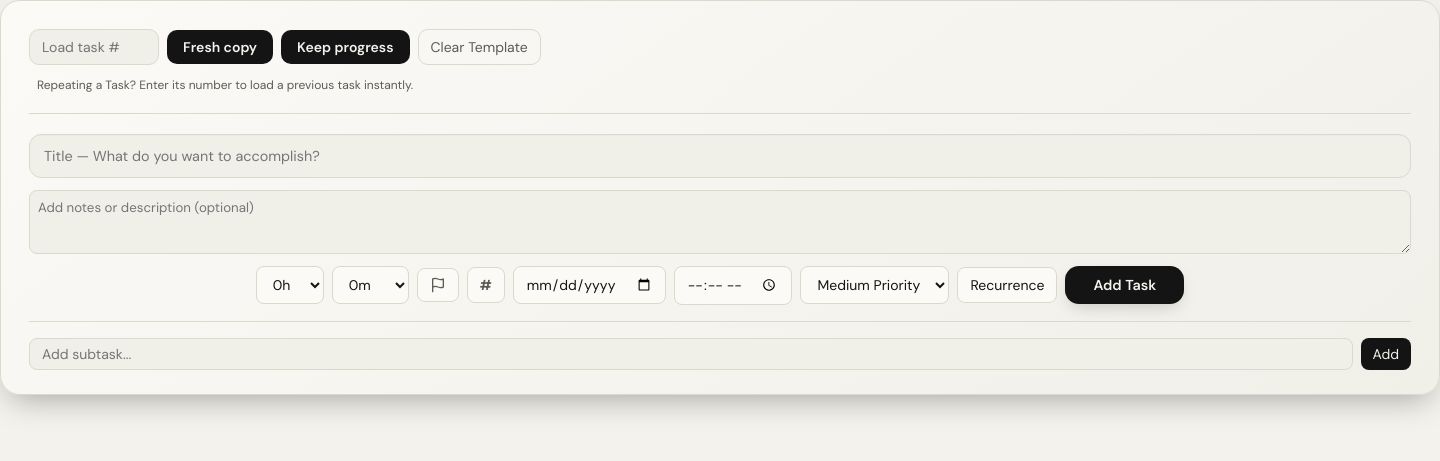
Test: Composer template loading › shows an error for unknown task numbers
Type "99" into the number field named "Load task by number".
click(94, 47); type("99")  # box [29,29,159,65]
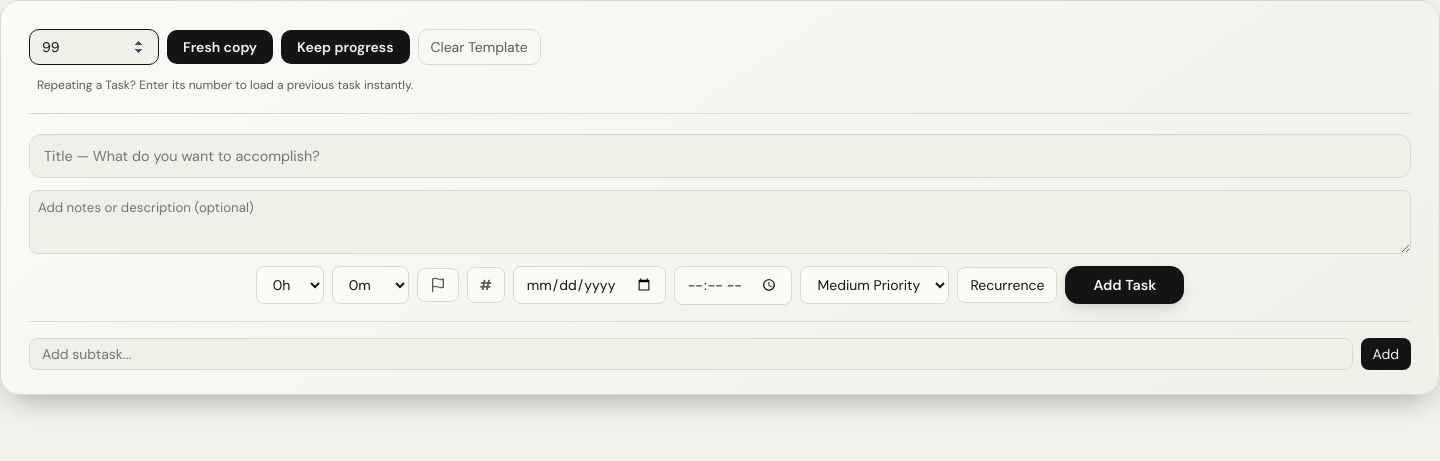
Click the button "Fresh copy".
click(220, 47)  # box [167,30,273,64]
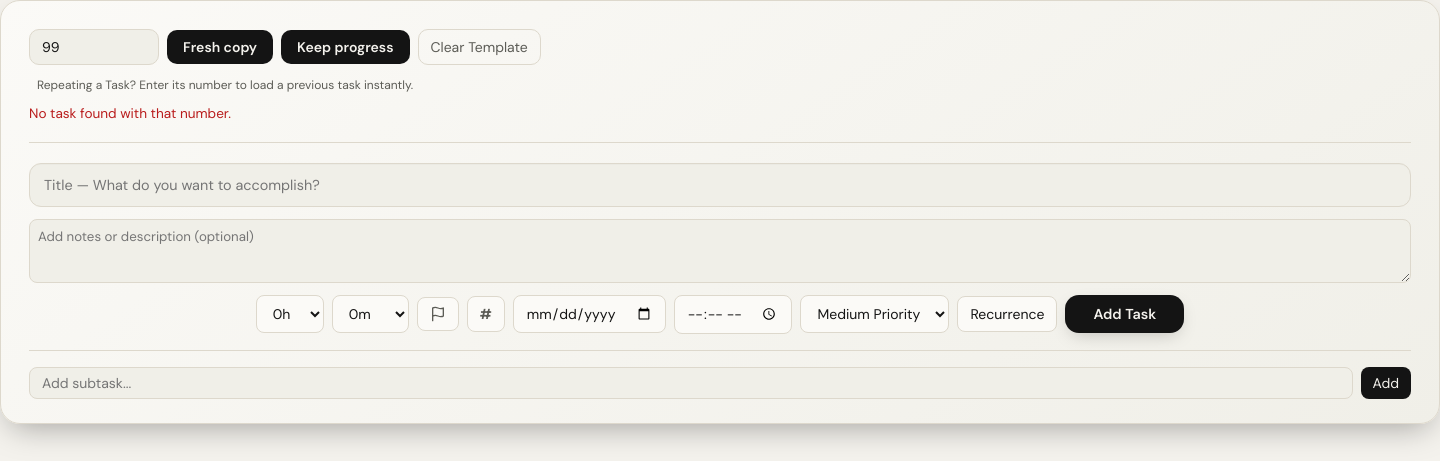
expect the text "No task found with that number." is shown: met, box [29,105,231,122]
